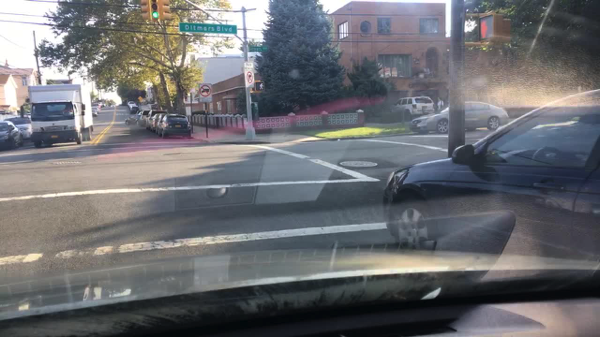car: (383, 88, 599, 261), (407, 100, 509, 137), (391, 96, 434, 121), (2, 116, 32, 143), (160, 114, 192, 139), (0, 120, 24, 150), (146, 110, 169, 132), (155, 114, 166, 136), (150, 114, 162, 132), (125, 117, 147, 126), (140, 110, 151, 127), (130, 106, 140, 115), (92, 103, 101, 112), (135, 110, 144, 119), (95, 102, 103, 110), (90, 110, 98, 117), (92, 107, 100, 114), (127, 101, 135, 107), (110, 104, 116, 108), (102, 104, 106, 109), (106, 105, 109, 109)
person: (436, 96, 444, 114)
traffic light: (476, 13, 513, 44), (160, 1, 171, 20), (150, 1, 160, 20), (140, 0, 147, 21), (254, 81, 264, 91)
traffic sign: (180, 23, 236, 35), (198, 82, 213, 103), (244, 62, 254, 89), (248, 45, 267, 52), (138, 96, 143, 103)
truck: (27, 82, 94, 148)
